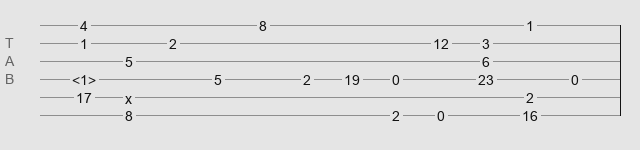0: (392, 72, 400, 82), (437, 108, 445, 118), (571, 72, 579, 82)
1: (80, 36, 88, 46), (526, 18, 534, 28)
12: (433, 36, 449, 46)
16: (522, 108, 538, 118)
17: (76, 90, 92, 100)
19: (344, 72, 360, 82)
2: (169, 36, 177, 46), (303, 72, 311, 82), (392, 108, 400, 118), (526, 90, 534, 100)
23: (478, 72, 494, 82)
3: (482, 36, 490, 46)
4: (80, 18, 88, 28)
5: (125, 54, 133, 64), (214, 72, 222, 82)
6: (482, 54, 490, 64)
8: (125, 108, 133, 118), (259, 18, 267, 28)
harmonic: (72, 72, 96, 82)
x: (125, 91, 132, 99)
